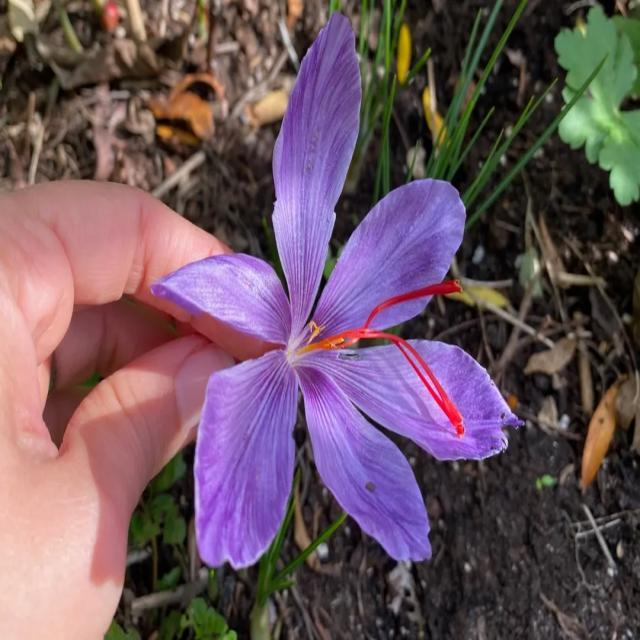Flower: (214, 180, 452, 526)
stigma: (385, 335, 465, 435), (367, 277, 465, 331)
